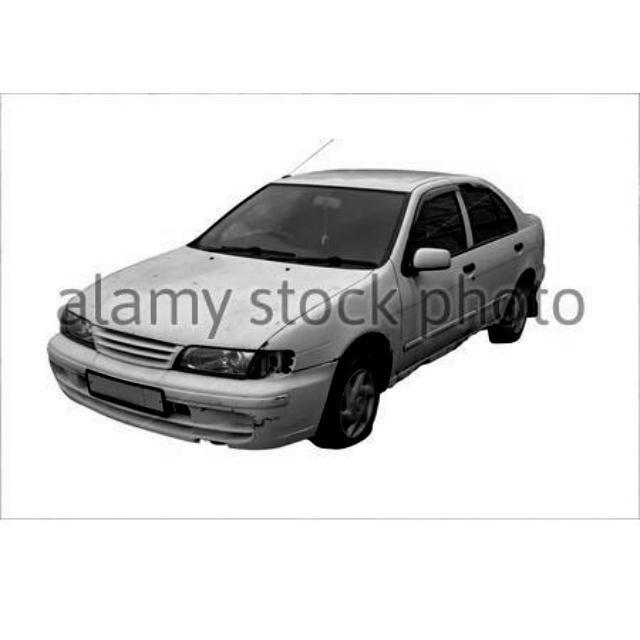Headlight-damage: (210, 346, 301, 377)
front-bumper-dent: (156, 375, 323, 453)
